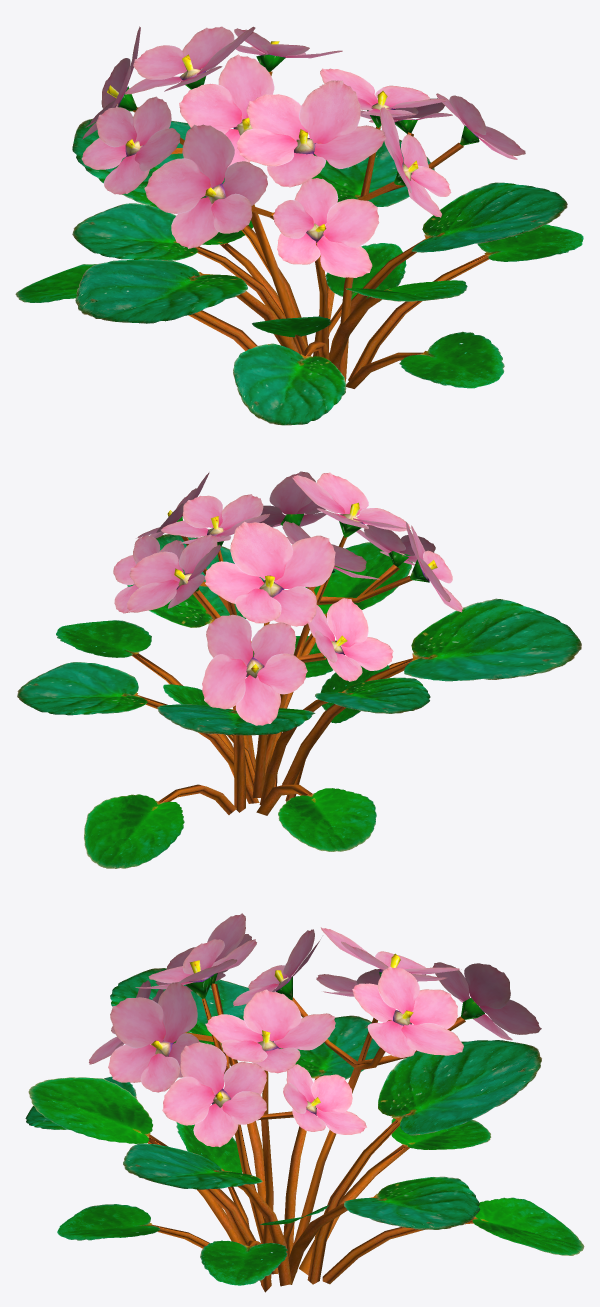
The model's file is Saintpaulia2B.fbx.
3 renders of one model, top to bottom at view 1: azimuth 30°, elevation 25°; view 2: azimuth 150°, elevation 25°; view 3: azimuth 270°, elevation 25°, orthographic. The views are drawn at different scales.
Parts seen in each view (by area): view 1: Sainpaulia2B_LOD0; view 2: Sainpaulia2B_LOD0; view 3: Sainpaulia2B_LOD0.
Part boxes in pixels (left/top/right/bottom): Sainpaulia2B_LOD0: left=15, top=26, right=583, bottom=425; Sainpaulia2B_LOD0: left=17, top=471, right=581, bottom=868; Sainpaulia2B_LOD0: left=25, top=913, right=584, bottom=1292.
Size of what is drawn, in the model's own units: 71.05 by 45.15 by 68.54.
